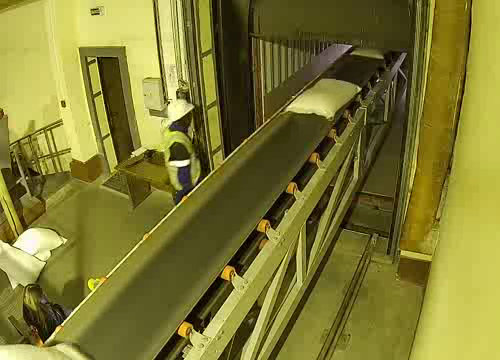bag: (282, 73, 368, 123), (0, 336, 100, 360), (347, 43, 394, 61)
